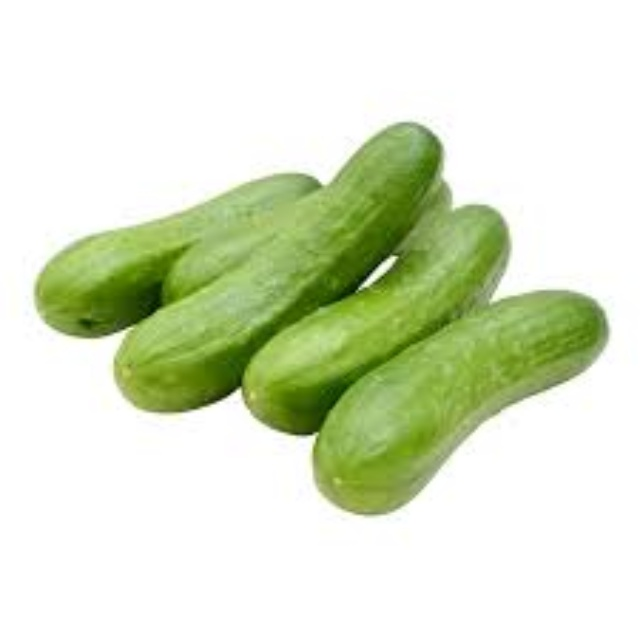dua_leo: (114, 125, 443, 426), (313, 288, 610, 523), (239, 199, 520, 434)
